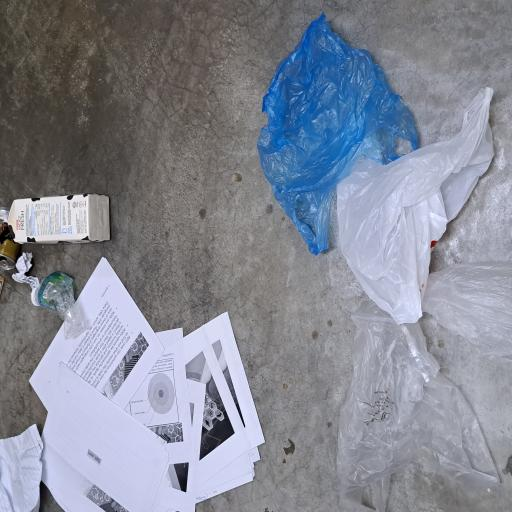can: (182, 0, 230, 26)
drink carton: (201, 3, 239, 147)
paper: (0, 38, 193, 354), (0, 0, 66, 56), (168, 16, 196, 52)
plastic bag: (194, 339, 375, 512), (142, 450, 319, 512), (0, 447, 159, 512)
plastic bottle: (129, 46, 182, 116)
plastic bottle cap: (155, 41, 168, 53)
pop tab: (183, 2, 189, 12)
